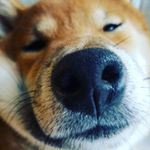puppy: (7, 1, 146, 146)
